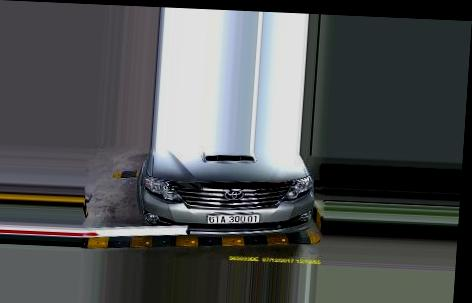License_Plate: (204, 211, 265, 225)
